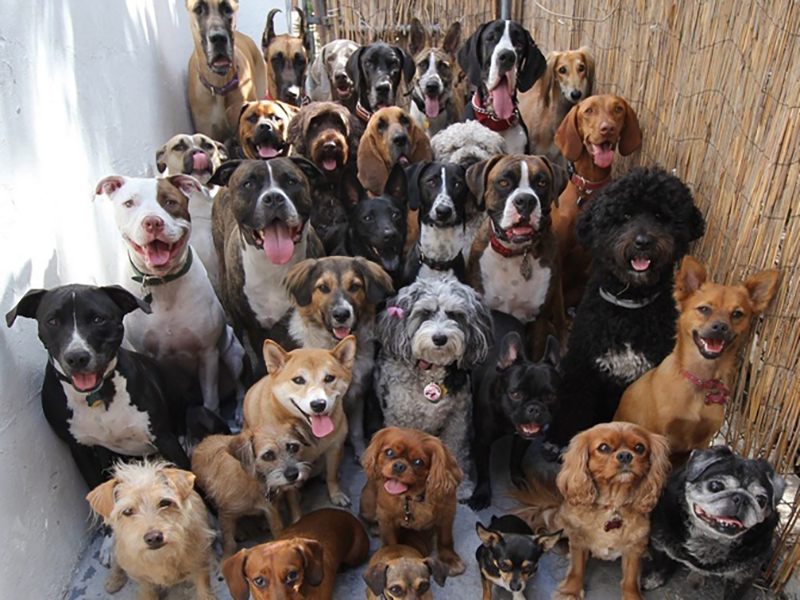cane da caccia: (528, 151, 710, 389), (622, 254, 798, 431), (18, 278, 184, 462), (551, 425, 666, 584), (468, 143, 565, 330), (204, 146, 312, 312), (375, 271, 483, 436), (357, 428, 466, 581), (677, 448, 786, 584), (89, 165, 198, 298), (554, 81, 657, 204), (98, 465, 207, 578), (456, 4, 550, 134), (240, 330, 362, 430), (230, 507, 372, 592), (368, 103, 440, 243), (416, 150, 498, 271), (298, 96, 356, 246), (206, 413, 309, 496), (187, 1, 264, 112), (256, 3, 327, 104), (462, 512, 556, 581), (400, 19, 463, 110), (545, 37, 618, 104), (334, 27, 409, 90), (156, 127, 234, 183), (230, 99, 293, 142)
